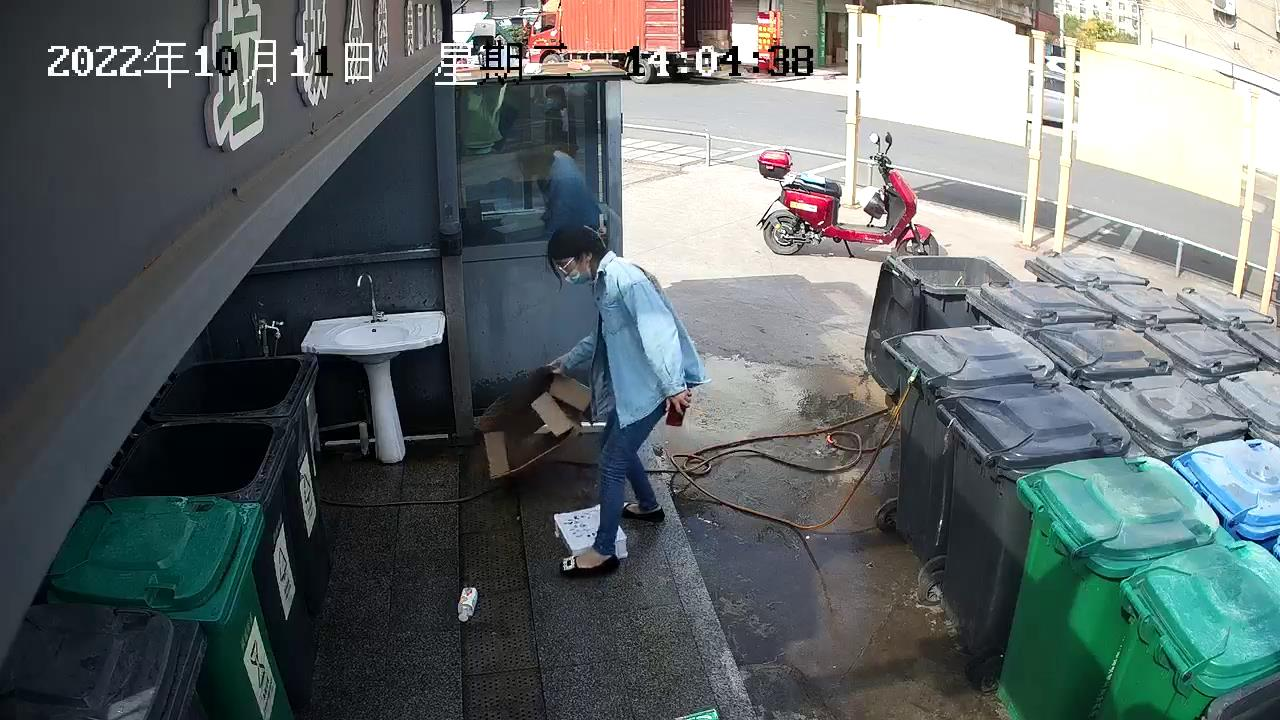suliaozhipin: (550, 504, 629, 565), (455, 583, 479, 623)
worker: (544, 211, 713, 580)
zhizhipin: (470, 364, 594, 482)
